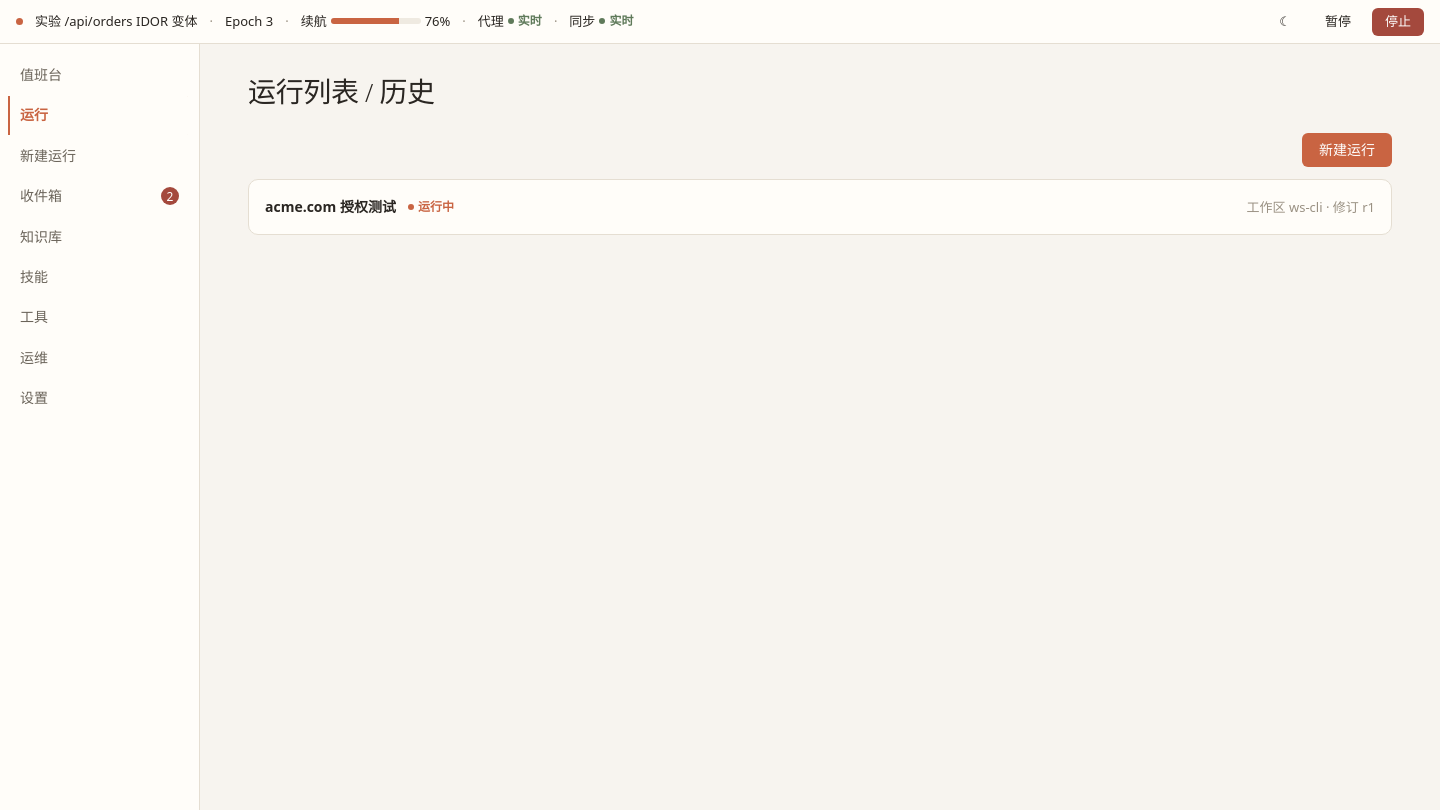
Test case: App 外壳与导航 › 从 Runs 列表（真实接口）点一个 Run → 进入指挥台（作战模式，默认会话树）
The image size is (1440, 810).
// 异步加载：先出现加载态，数据到达后列表项渲染。
Click the text "acme.com 授权测试".
click(330, 207)  # box [265,196,396,218]
(page scrolled)
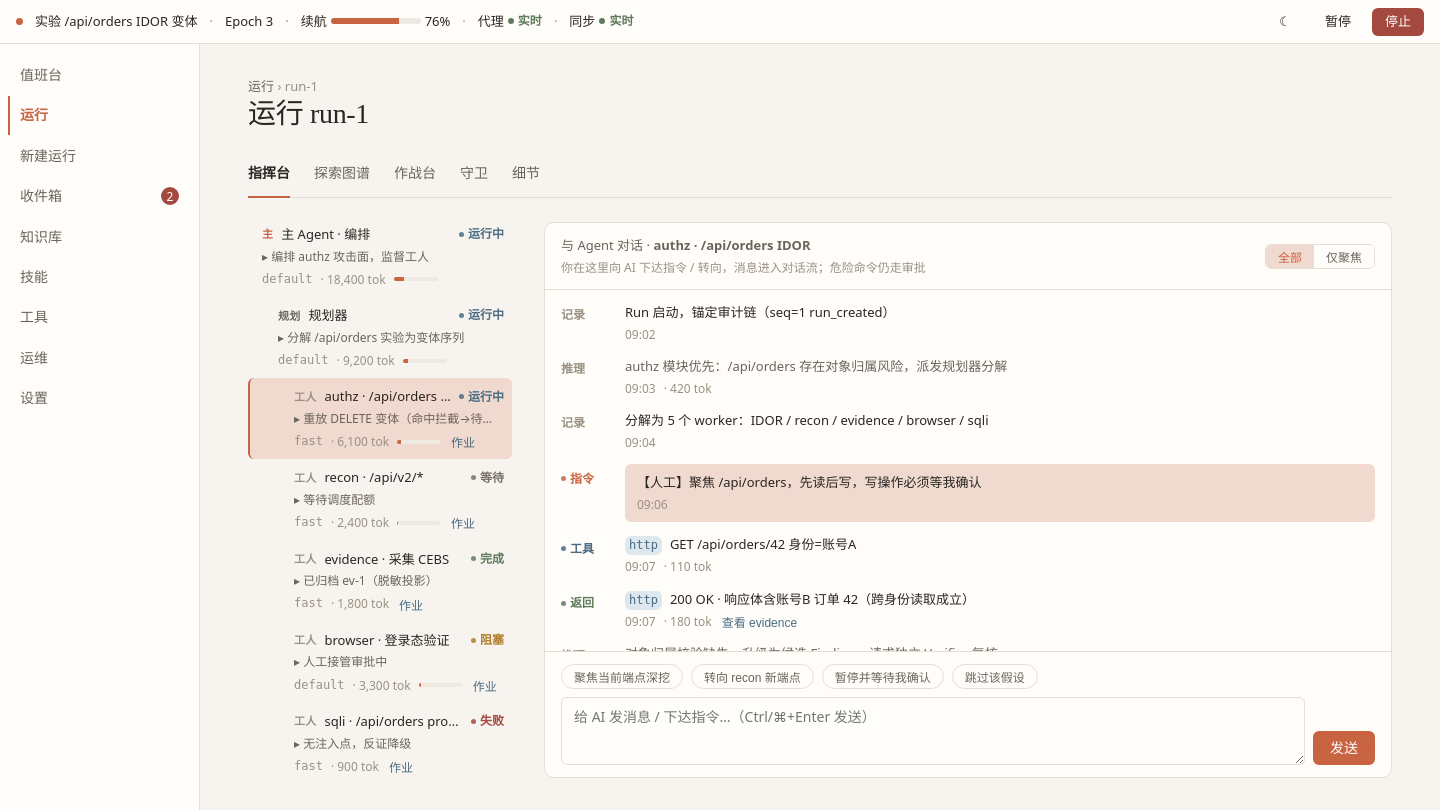
Now the heading "运行 run-1" is shown, box [248,97,369,130]
Now the navigation bar named "Run 作战模式" is shown, box [248,154,1392,198]
Now the element named "Agent 会话" is shown, box [248,222,512,778]
